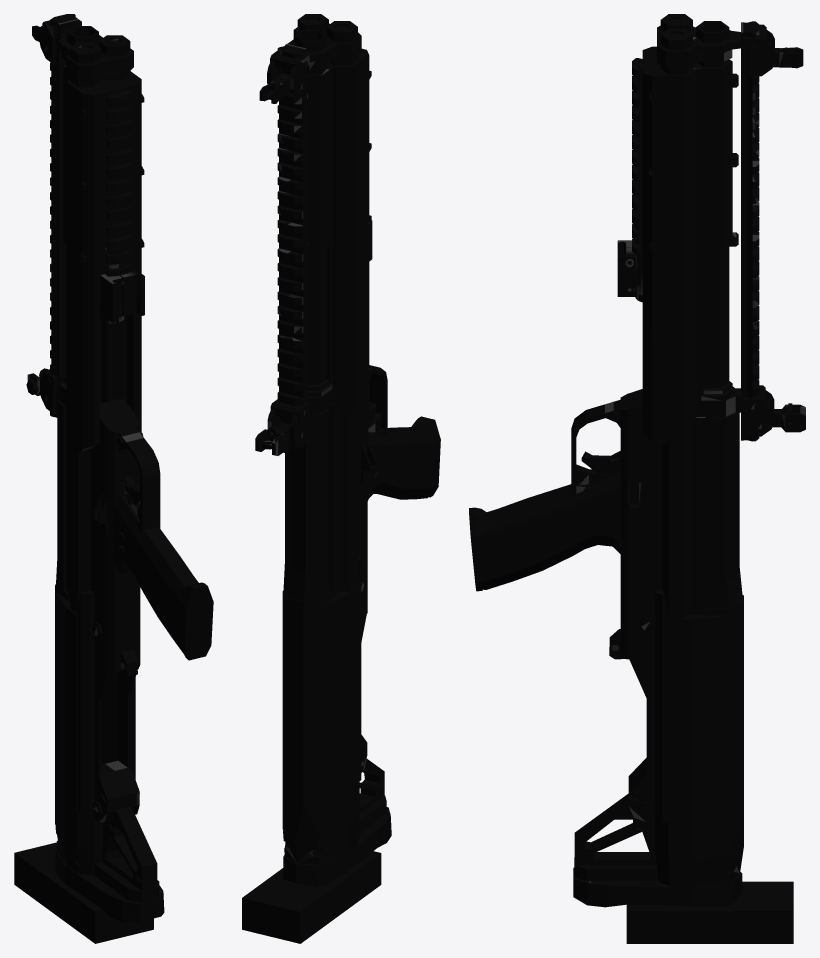
The model's file is KSG__Light_Pistol__RecoilPad_Rubber.fbx.
3 renders of one model, left to right at view 1: azimuth 30°, elevation 25°; view 2: azimuth 150°, elevation 25°; view 3: azimuth 270°, elevation 25°, orthographic. The views are drawn at different scales.
Parts seen in each view (by area): view 1: asset_KSG.001; view 2: asset_KSG.001; view 3: asset_KSG.001.
Boxes of the visible parts, x1,y1,x2,y2 form: asset_KSG.001: (14,14,213,943); asset_KSG.001: (242,14,440,943); asset_KSG.001: (469,14,805,943).
Size of the model in its own units: 0.03 by 0.411 by 0.139.
